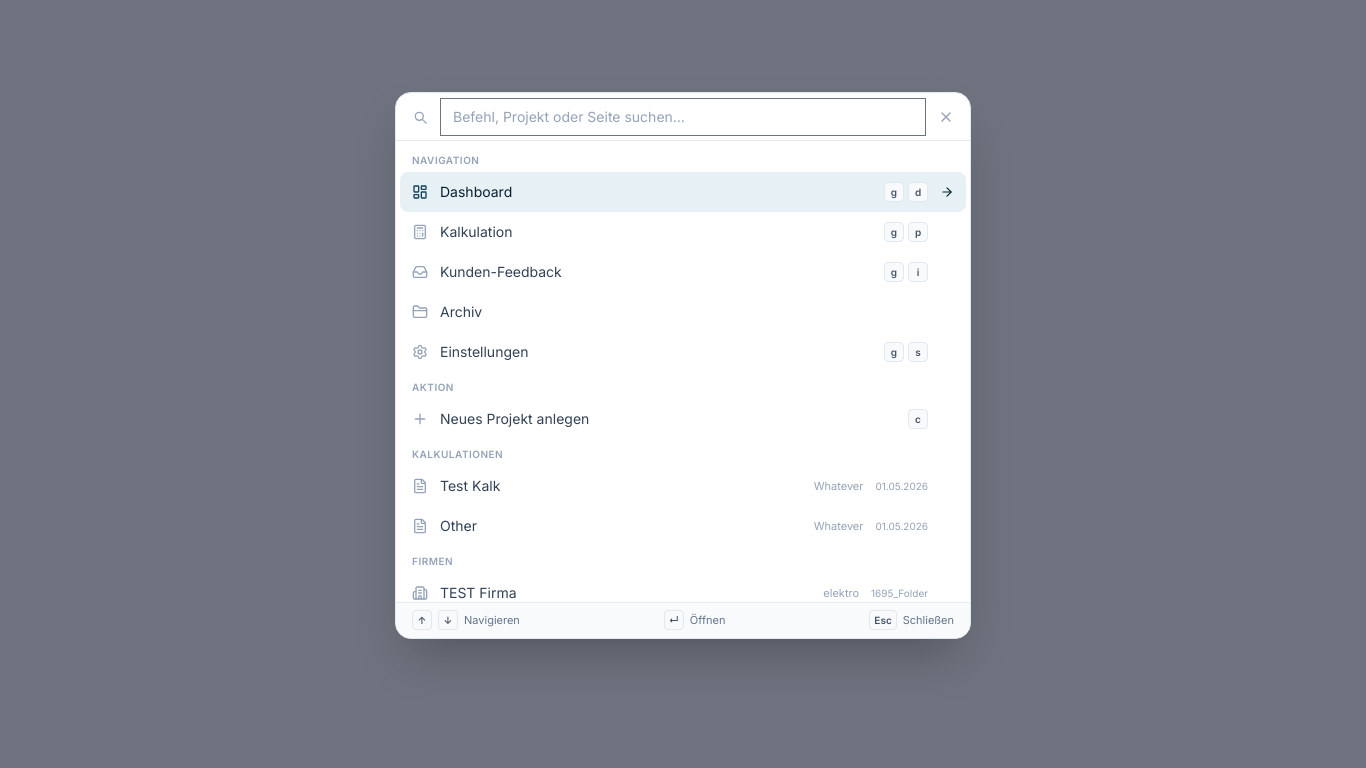
Test: CommandPalette.tsx — cross-group search › typing "test" filters across ALL groups (matches in any group)
Expected: the text "TEST Firma" is shown, left=440, top=584, right=517, bottom=601
Type "test" into the field with placeholder "Befehl, Projekt oder Seite suchen…" at {"x": 683, "y": 117}, box left=440, top=98, right=926, bottom=136
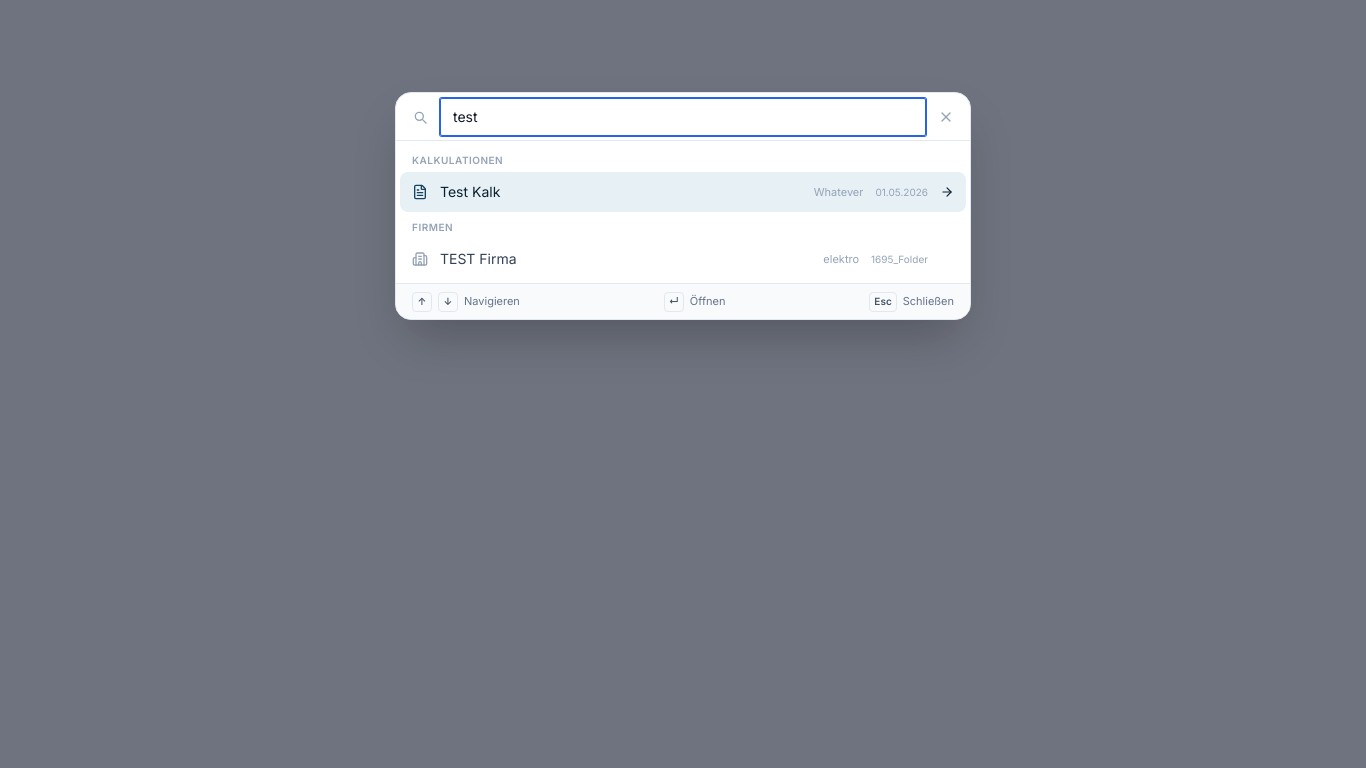
Expected: the text "Test Kalk" is shown, left=440, top=183, right=500, bottom=200
Now the button "Other" is gone
